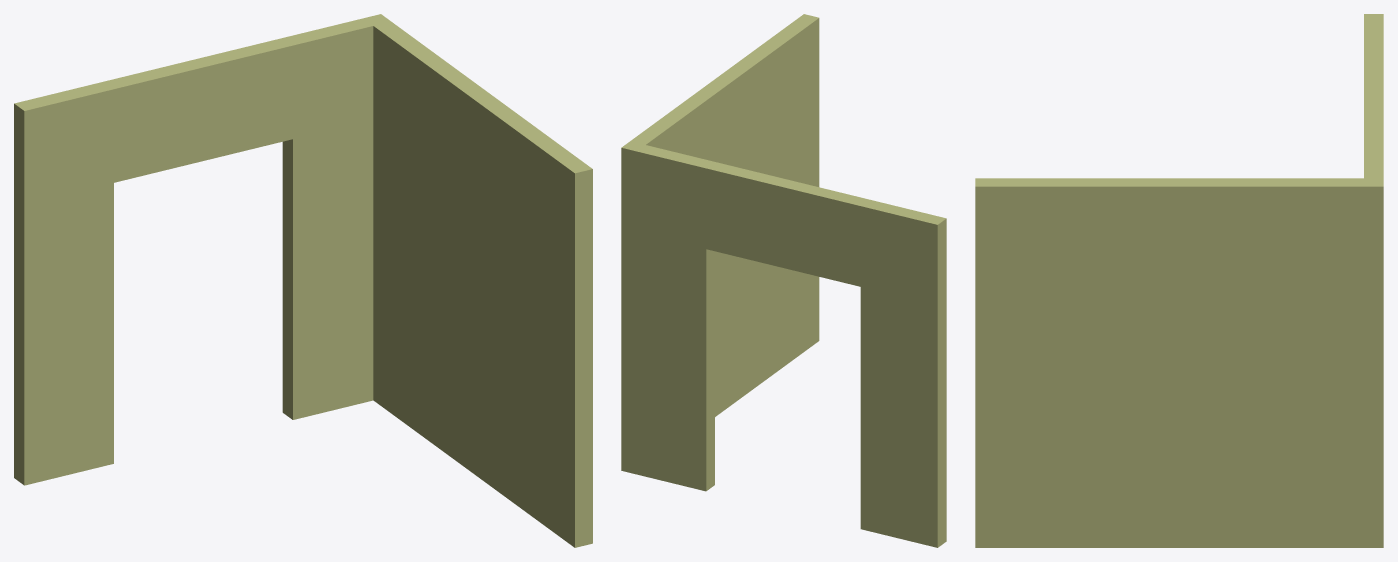
The model's file is Wal_5_Corner_B.fbx.
3 views of the same model, side by side, from view 1: azimuth 30°, elevation 25°; view 2: azimuth 150°, elevation 25°; view 3: azimuth 270°, elevation 25° (orthographic). The views are drawn at different scales.
Parts seen in each view (by area): view 1: polySurface32; view 2: polySurface32; view 3: polySurface32.
Part boxes in pixels (x1,y1,x2,y2): polySurface32: (14,14,592,547); polySurface32: (621,14,946,547); polySurface32: (975,14,1383,547).
Bounding box in the file's own units: 4.1 × 4 × 4.1.
Materials: 1 (1 with a texture image).
